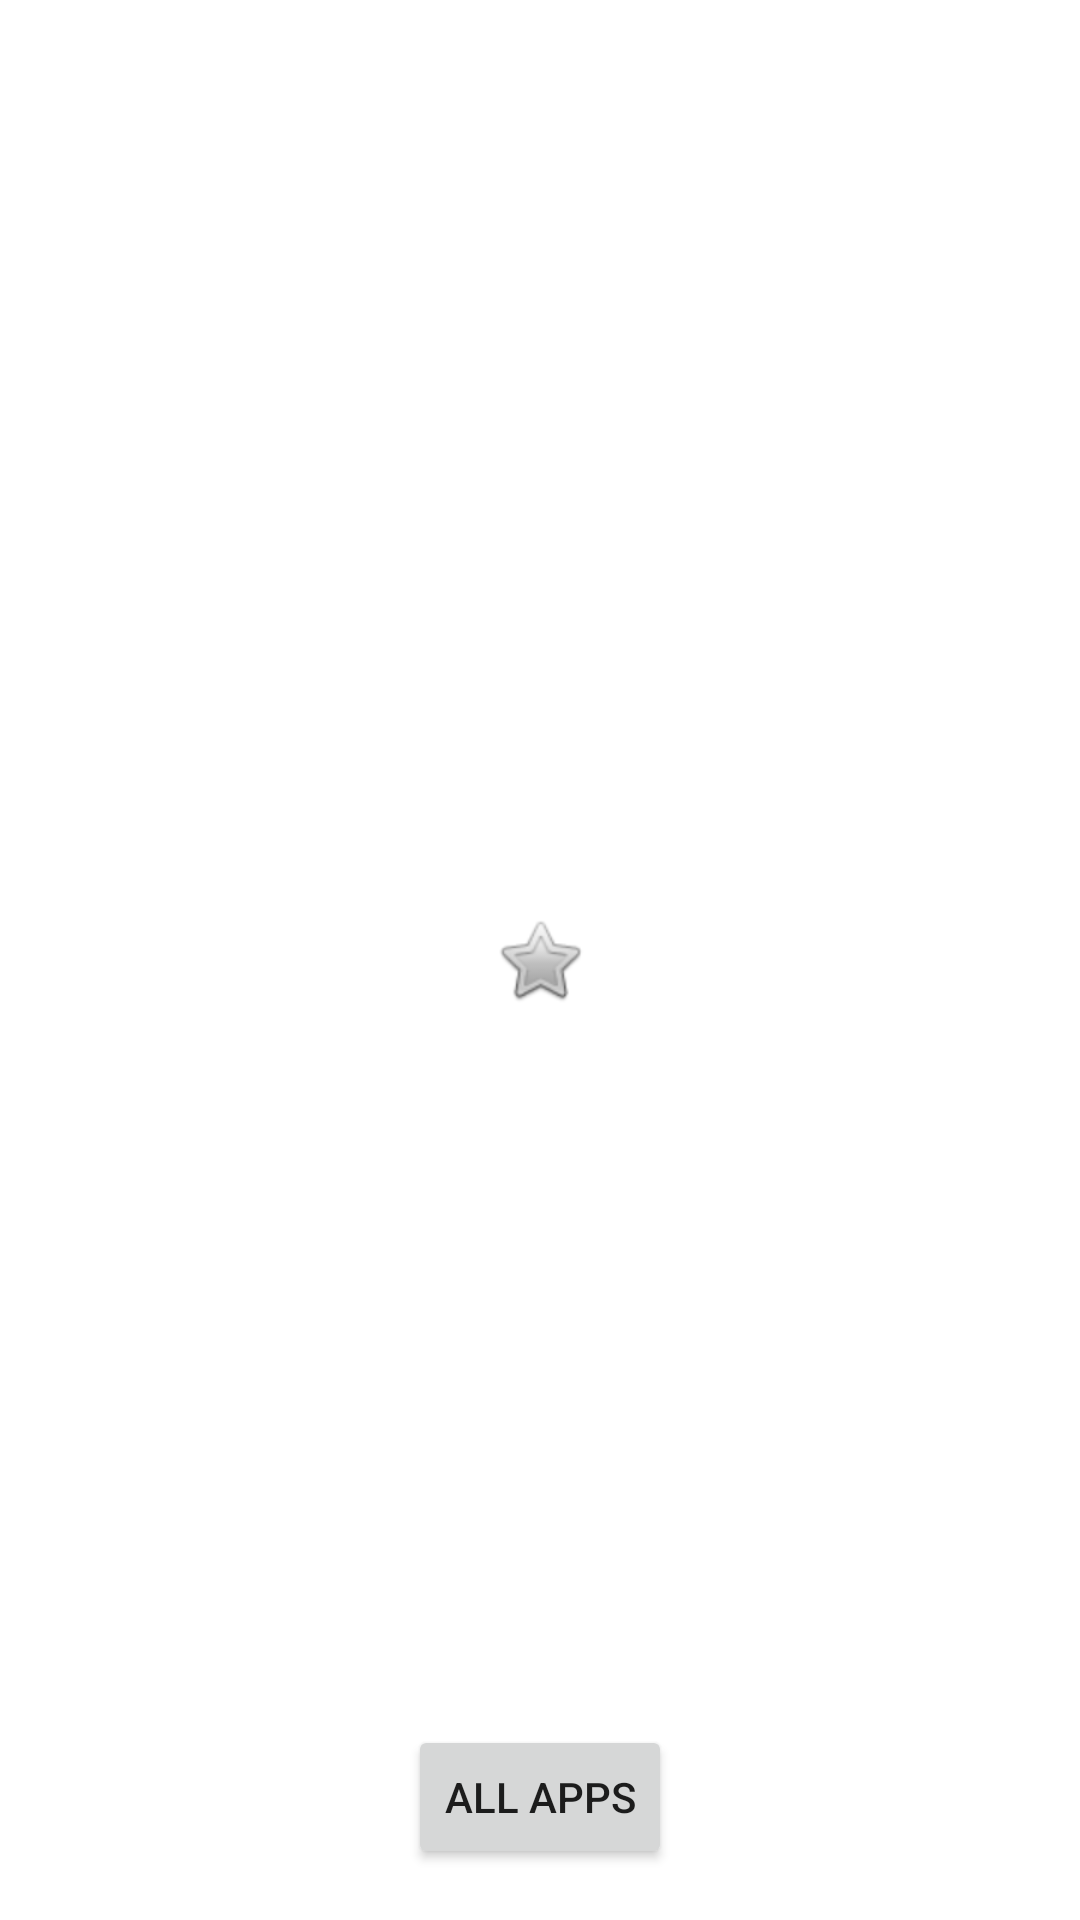

Where to tap for icons on this 1080 x 1920 app screen, as (x=x, y=y):
star: (x=541, y=961)
